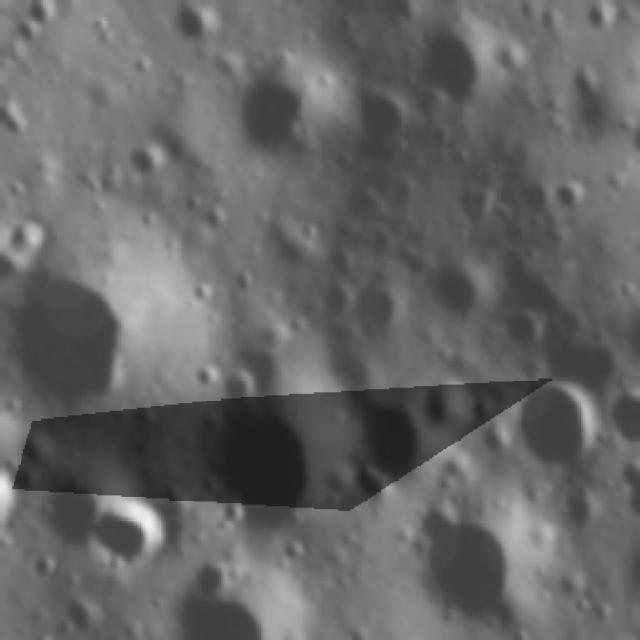crater: (0, 224, 168, 431), (181, 373, 339, 549), (402, 497, 546, 637), (343, 382, 463, 493), (497, 373, 600, 479), (222, 66, 330, 159), (405, 23, 510, 106), (87, 490, 173, 572), (167, 581, 280, 640), (344, 83, 422, 151), (341, 284, 412, 358), (422, 260, 492, 326), (0, 198, 63, 264), (412, 378, 474, 432), (493, 301, 550, 356), (165, 0, 224, 48), (211, 353, 260, 409), (544, 173, 596, 221), (606, 381, 640, 452), (187, 551, 231, 600), (124, 139, 171, 184), (508, 173, 547, 224), (614, 460, 640, 532), (629, 117, 640, 169)
